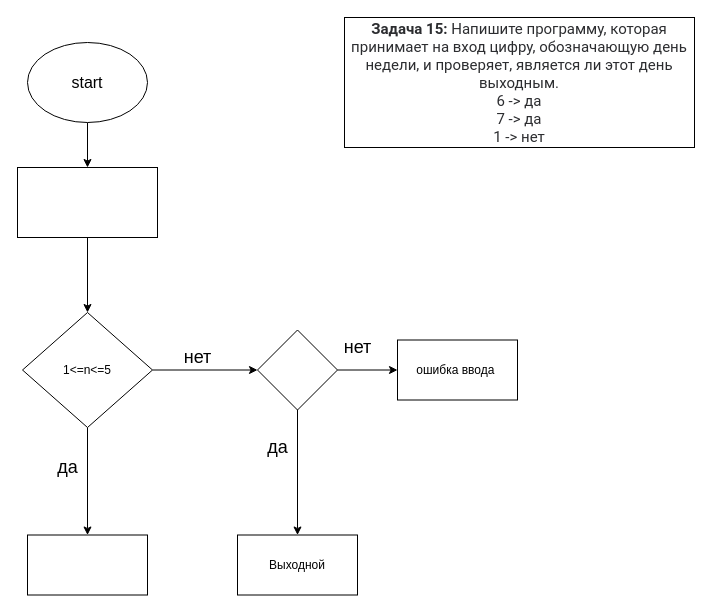
Some shapes in this 712 by 613 pixel diagram are drawn without their labels. Each missing label, with the box of its shape:
5<=n<=7: (256, 329, 338, 410)
n = 1: (16, 166, 158, 238)
не выходной: (26, 534, 148, 595)
